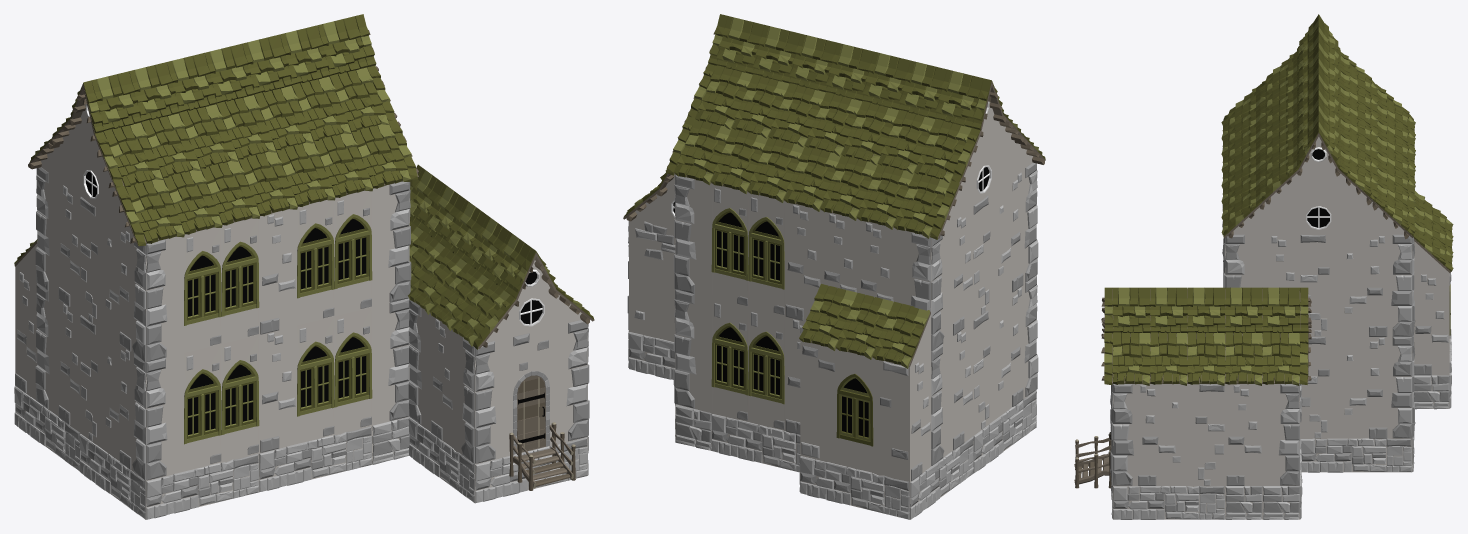
File: HOUSE_1.fbx
3 views of the same model, side by side, from view 1: azimuth 30°, elevation 25°; view 2: azimuth 150°, elevation 25°; view 3: azimuth 270°, elevation 25° (orthographic). The views are drawn at different scales.
Visible parts, largest first — view 1: WALL_08_2, WALL_08_3, WINDOW_01_03, WINDOW_01_05, WINDOW_01_06, WINDOW_01_08, FOUNDATION_03_4, WALL_07_5, FOUNDATION_03_5, WINDOW_01_02, WINDOW_01_04, WALL_06_4 (+61 smaller); view 2: WINDOW_02_2, WALL_08_3, WALL_08_2, WALL_01_3, FOUNDATION_03_8, WALL_05_8, WINDOW_01_11, WALL_05_9, WINDOW_01_10, WINDOW_01_12, WINDOW_01_13, WALL_06_11 (+48 smaller); view 3: WALL_04_2, WALL_08_5, WALL_08_4, FOUNDATION_03_12, FOUNDATION_03_10, WALL_07_7, WALL_06_2, WALL_06_9, WALL_06_12, WALL_05_10, ROOF_BASE_32, ROOF_BASE_30 (+60 smaller).
Part boxes in pixels (box(x1,y1,x2,y2)): WALL_08_2: box(80, 315, 146, 480); WALL_08_3: box(80, 196, 146, 361); WINDOW_01_03: box(296, 316, 334, 443); WINDOW_01_05: box(183, 344, 221, 471); WINDOW_01_06: box(183, 227, 221, 352); WINDOW_01_08: box(296, 200, 334, 325); FOUNDATION_03_4: box(146, 453, 258, 519); WALL_07_5: box(372, 181, 410, 306); FOUNDATION_03_5: box(259, 425, 371, 492); WINDOW_01_02: box(334, 307, 372, 434); WINDOW_01_04: box(221, 335, 259, 461); WALL_06_4: box(259, 325, 296, 452); WINDOW_02_2: box(800, 340, 908, 481); WALL_08_3: box(973, 162, 1038, 320); WALL_08_2: box(973, 275, 1038, 434); WALL_01_3: box(629, 218, 675, 341); FOUNDATION_03_8: box(800, 455, 909, 519); WALL_05_8: box(674, 289, 711, 412); WINDOW_01_11: box(711, 298, 748, 421); WALL_05_9: box(674, 174, 711, 297); WINDOW_01_10: box(748, 307, 784, 430); WINDOW_01_12: box(711, 183, 748, 306); WINDOW_01_13: box(748, 192, 784, 315); WALL_06_11: box(785, 201, 821, 320); WALL_04_2: box(1113, 384, 1225, 485); WALL_08_5: box(1300, 234, 1412, 336); WALL_08_4: box(1300, 336, 1412, 438); FOUNDATION_03_12: box(1113, 485, 1225, 519); FOUNDATION_03_10: box(1300, 438, 1412, 472); WALL_07_7: box(1262, 384, 1299, 485); WALL_06_2: box(1225, 384, 1262, 485); WALL_06_9: box(1414, 273, 1449, 375); WALL_06_12: box(1262, 234, 1299, 287); WALL_05_10: box(1225, 234, 1262, 287); ROOF_BASE_32: box(1187, 332, 1225, 385); ROOF_BASE_30: box(1262, 332, 1300, 385).
Size of the model in its own units: 1041 by 1014 by 1013.
